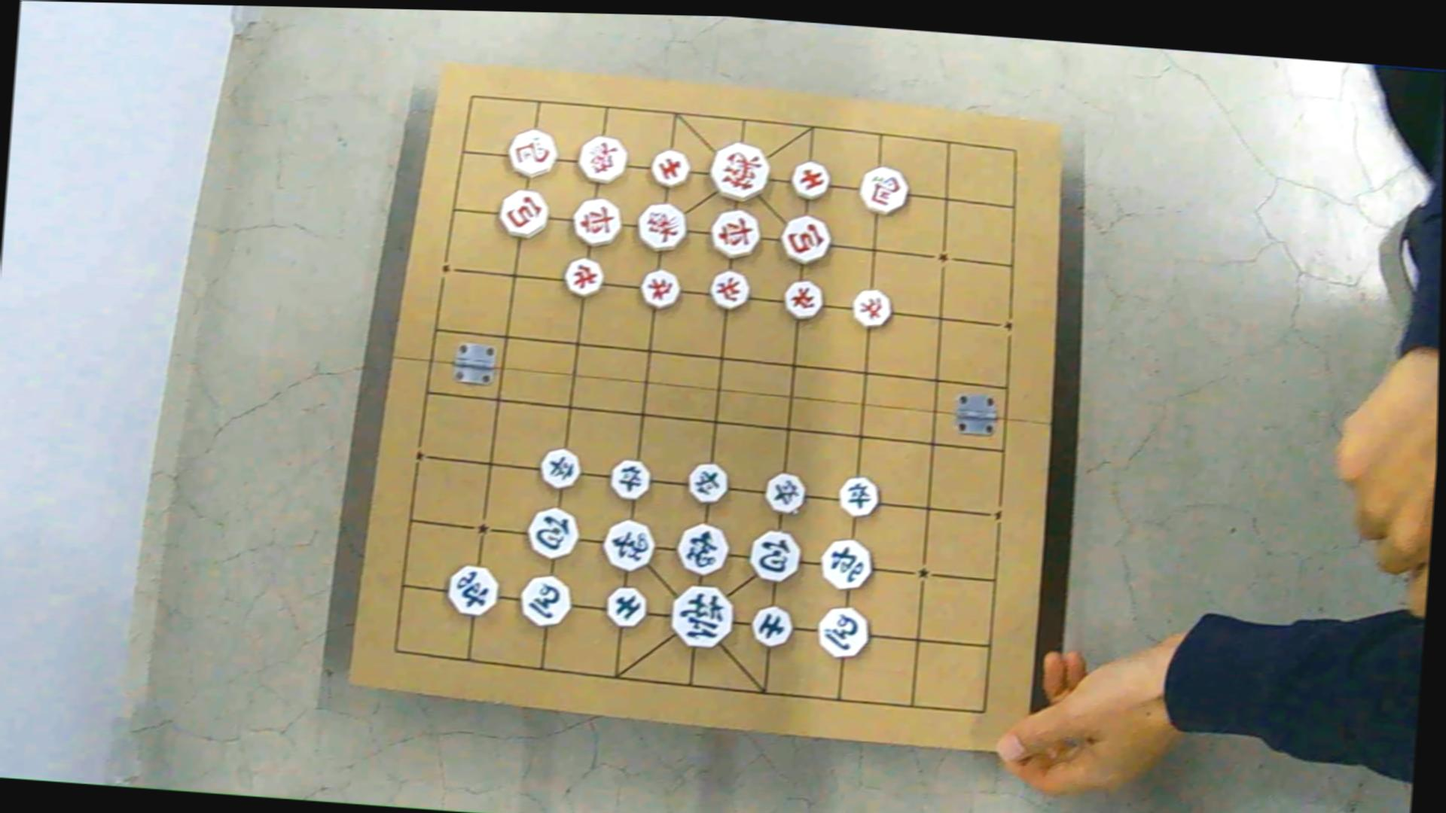cha_green: (821, 537, 874, 590), (448, 564, 500, 617)
cha_red: (711, 209, 761, 259), (572, 197, 622, 247)
jol_green: (764, 470, 807, 515), (539, 447, 582, 489), (688, 462, 731, 504), (610, 457, 651, 501), (839, 475, 880, 518)
jol_red: (852, 288, 894, 329), (783, 279, 825, 320), (710, 269, 751, 310), (563, 257, 605, 297), (639, 269, 680, 309)
ma_green: (520, 574, 572, 628), (817, 606, 871, 658)
ma_red: (508, 128, 559, 178), (859, 166, 910, 215)
po_green: (749, 528, 802, 583), (527, 506, 580, 559)
po_red: (499, 188, 551, 239), (782, 215, 832, 266)
sa_green: (751, 604, 794, 647), (606, 585, 648, 627)
sa_red: (648, 148, 692, 188), (789, 160, 832, 200)
sang_green: (676, 522, 731, 576), (603, 518, 656, 572)
sang_red: (638, 201, 688, 252), (578, 135, 628, 184)
wang_green: (669, 583, 735, 649)
wang_red: (710, 140, 770, 201)
